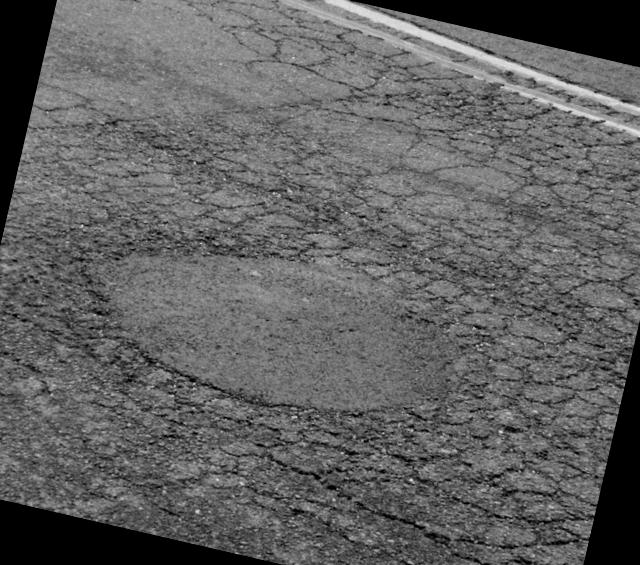Pothole: (0, 159, 522, 475)
